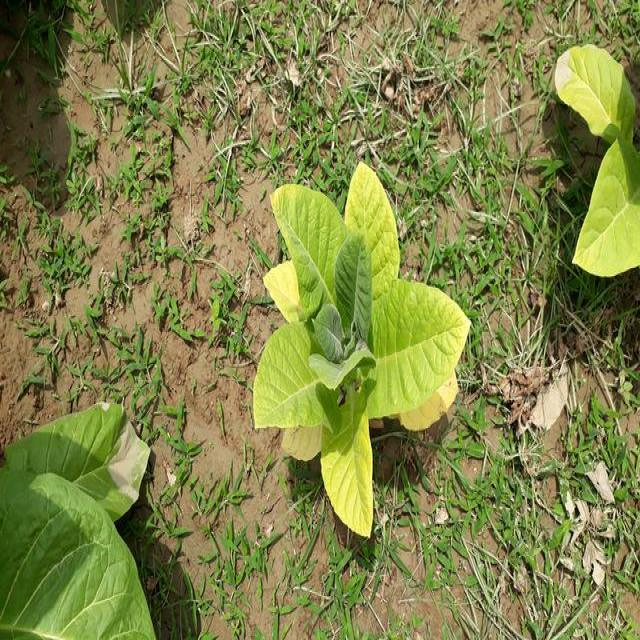crop: (255, 154, 472, 549)
